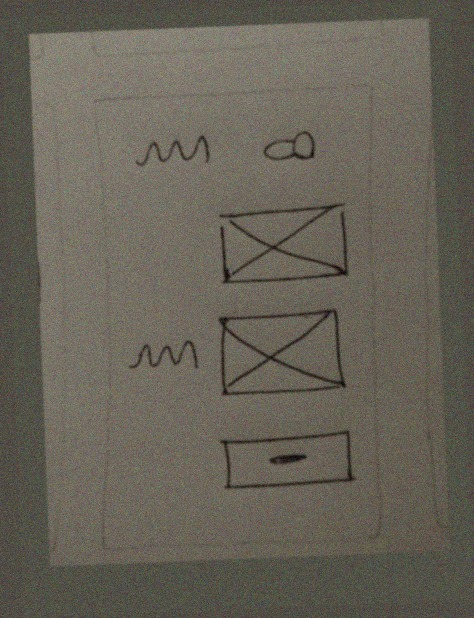button: (214, 426, 364, 503)
image: (211, 302, 352, 402), (210, 198, 354, 295)
switch: (252, 125, 323, 173)
text: (123, 336, 206, 386), (127, 127, 219, 172)
